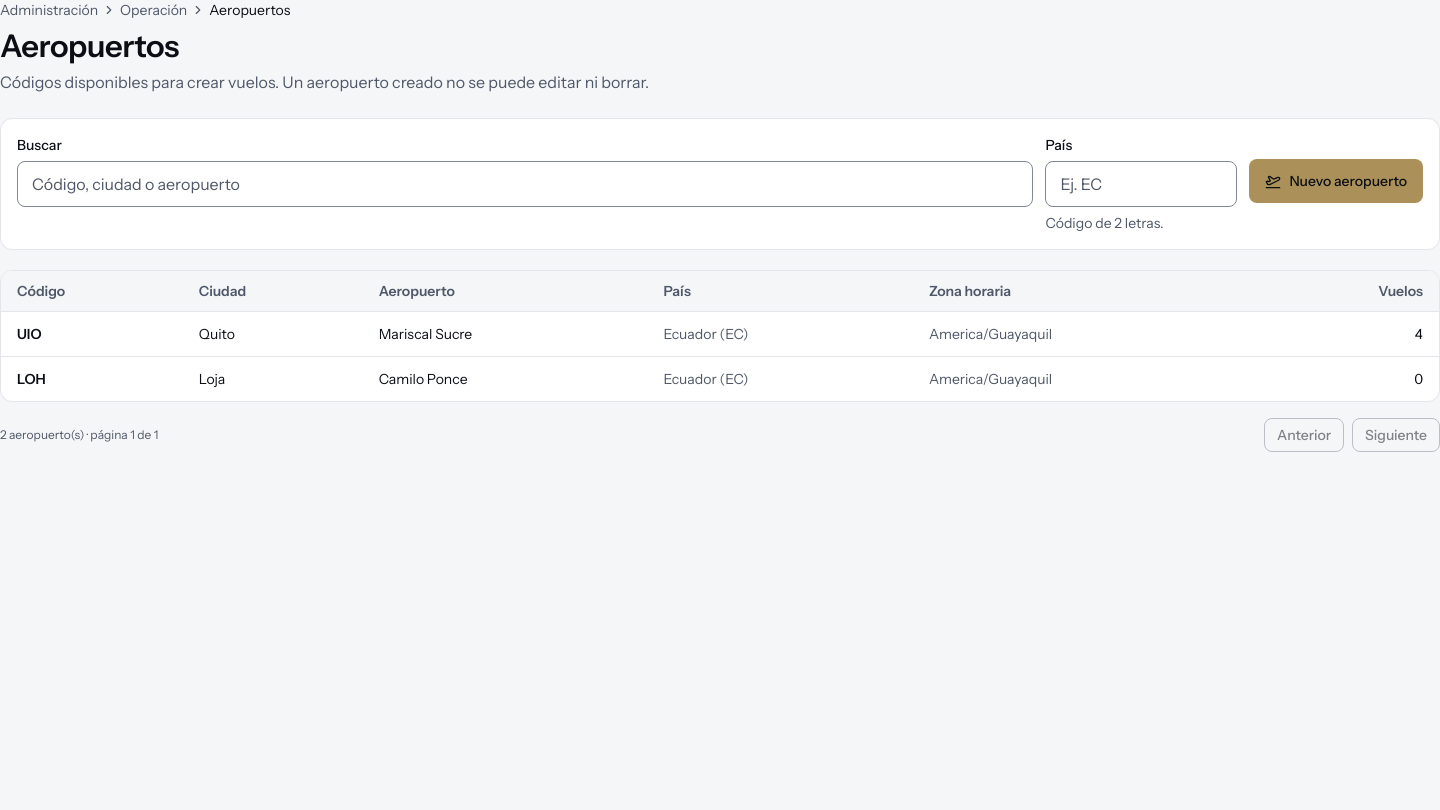
Test: AdminAirportsPage › asks for confirmation first and posts confirmar: true only after confirming, then invalidates the catalogue
The image size is (1440, 810).
Check: the text "Loja" is shown, box [183, 356, 363, 401]
Click the button "Nuevo aeropuerto" at (1336, 181), box [1249, 159, 1423, 203]
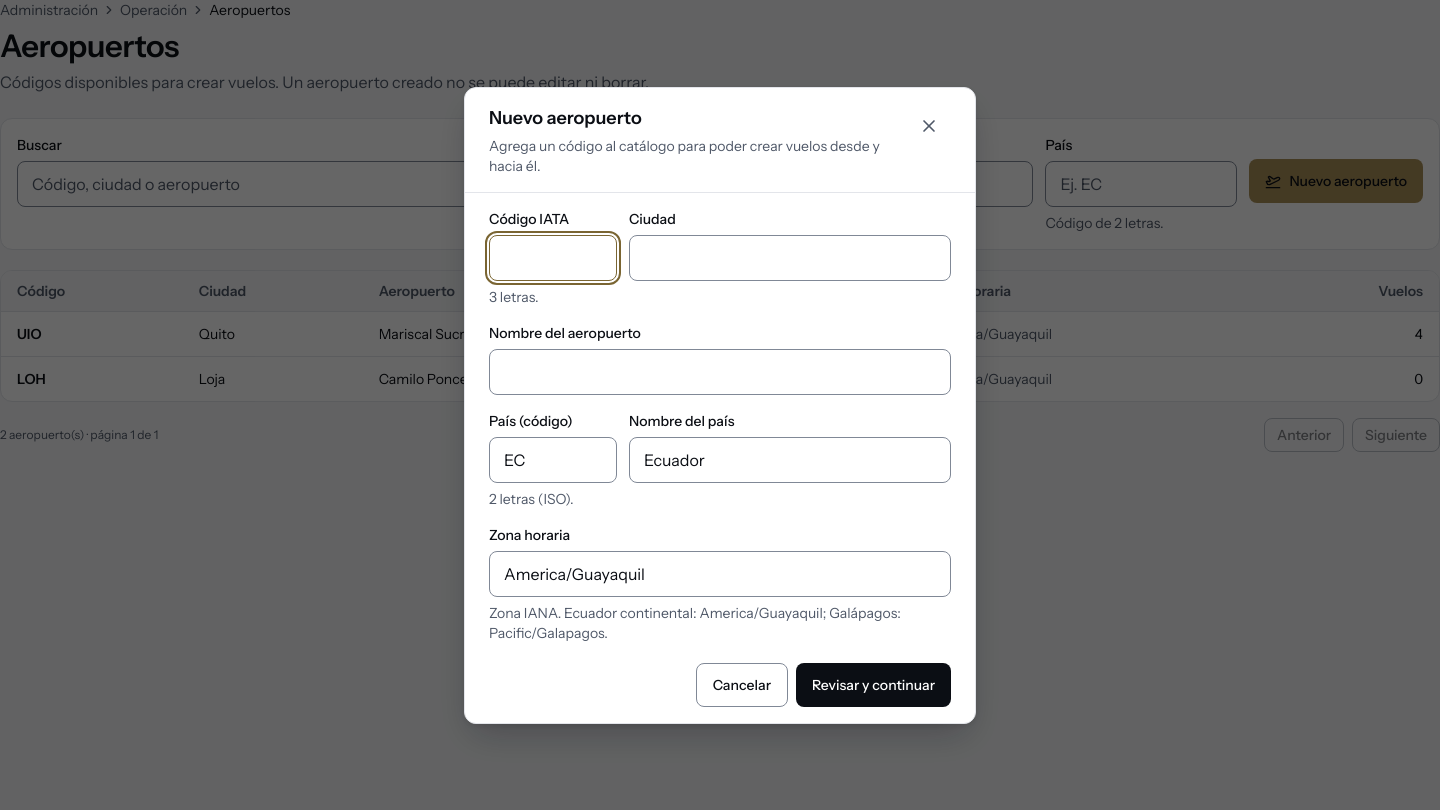
Type "tul" into the field labelled "Código IATA" at (553, 258), box [489, 234, 617, 280]
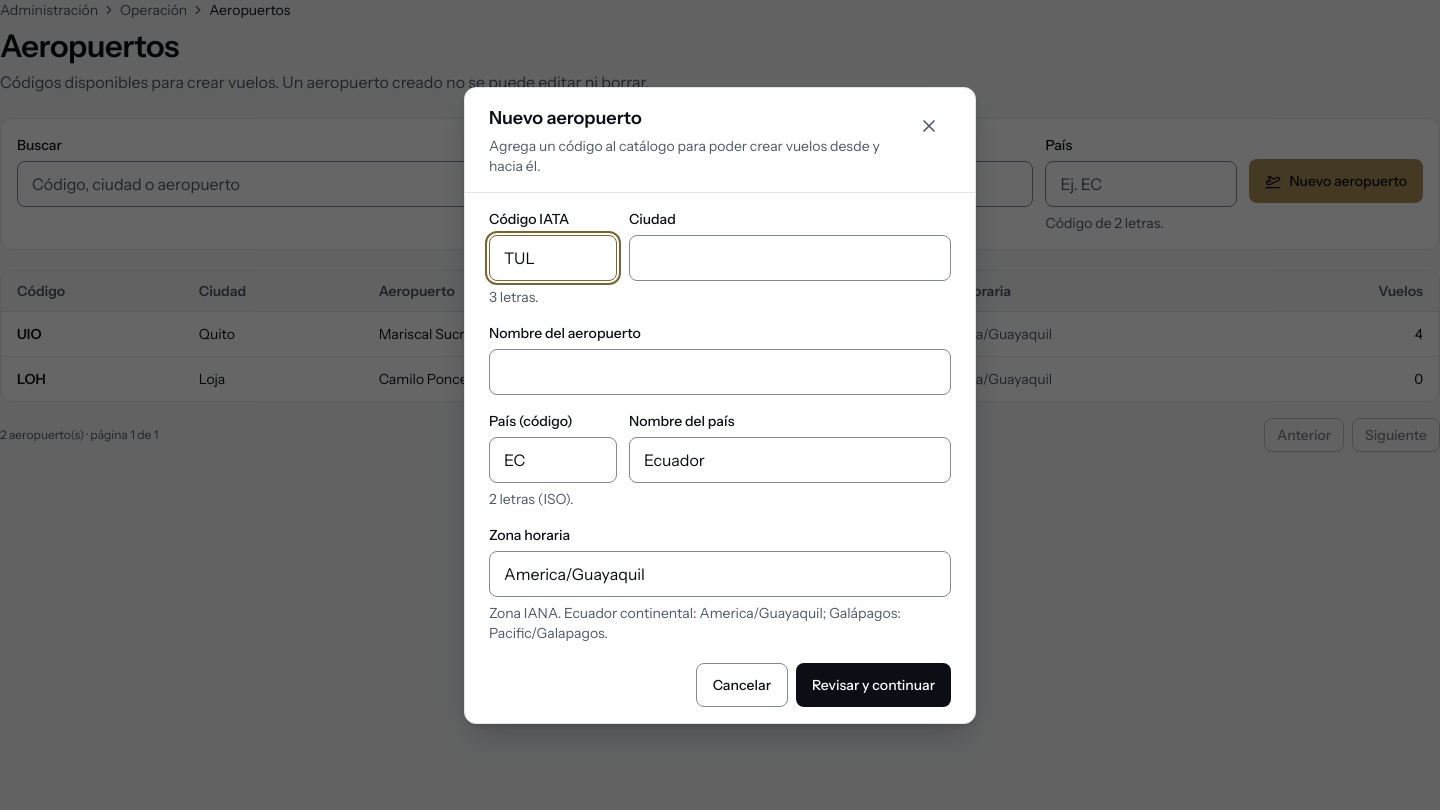
Type "Tulcán" into the field labelled "Ciudad" at (790, 258), box [629, 234, 951, 280]
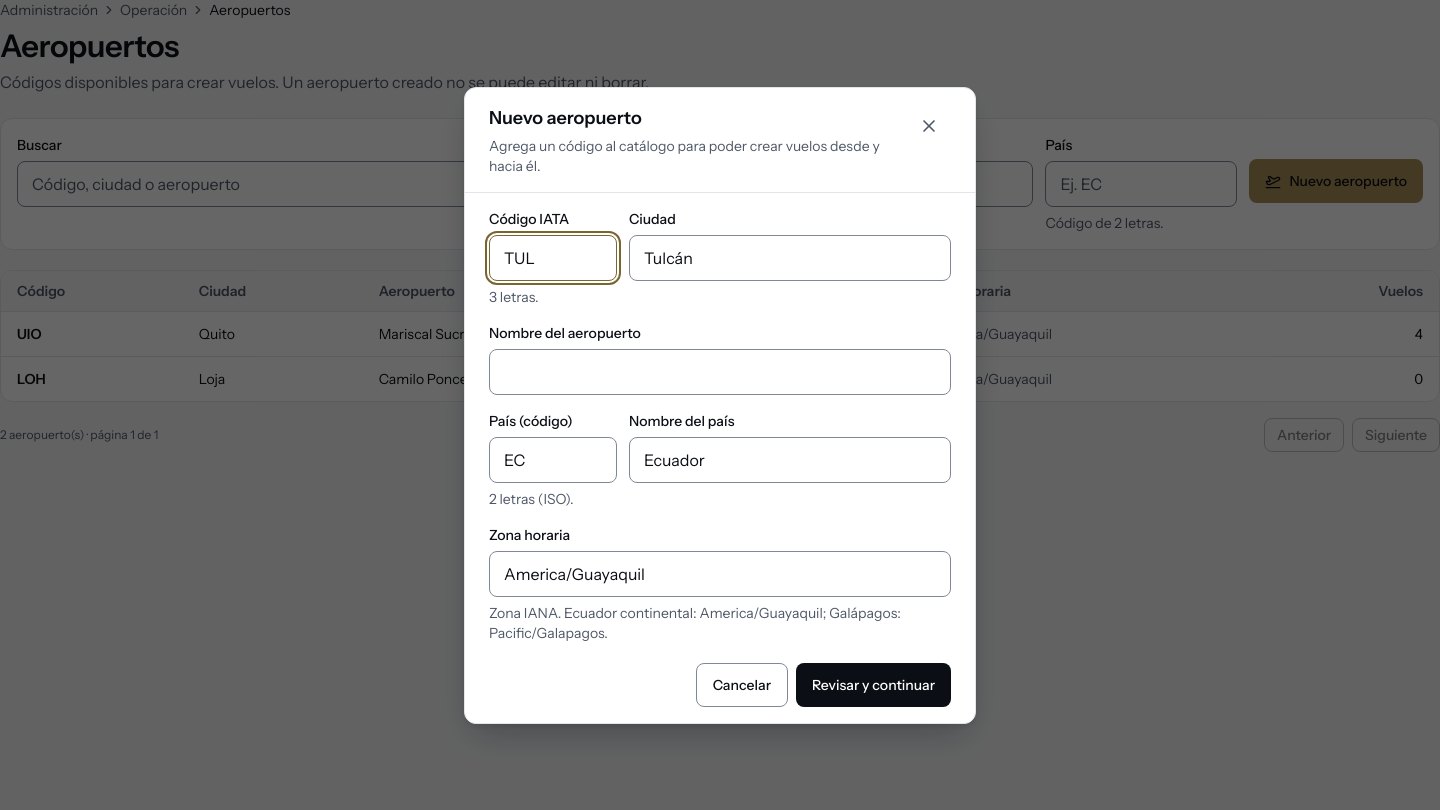
Type "Teniente Coronel Luis a Mantilla" into the field labelled "Nombre del aeropuerto" at (720, 372), box [489, 348, 951, 394]
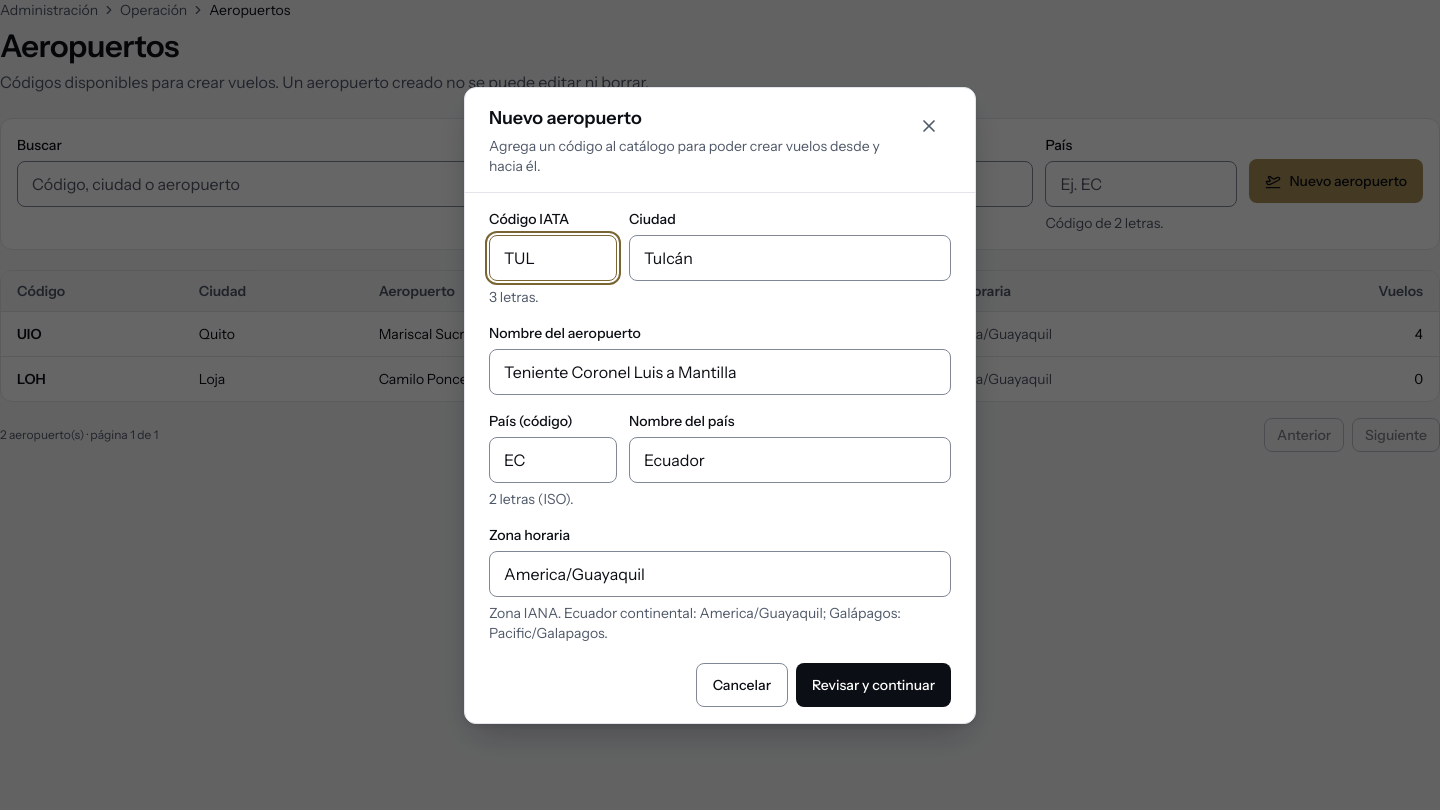
Click the button "Revisar y continuar" at (874, 684), box [796, 662, 951, 706]
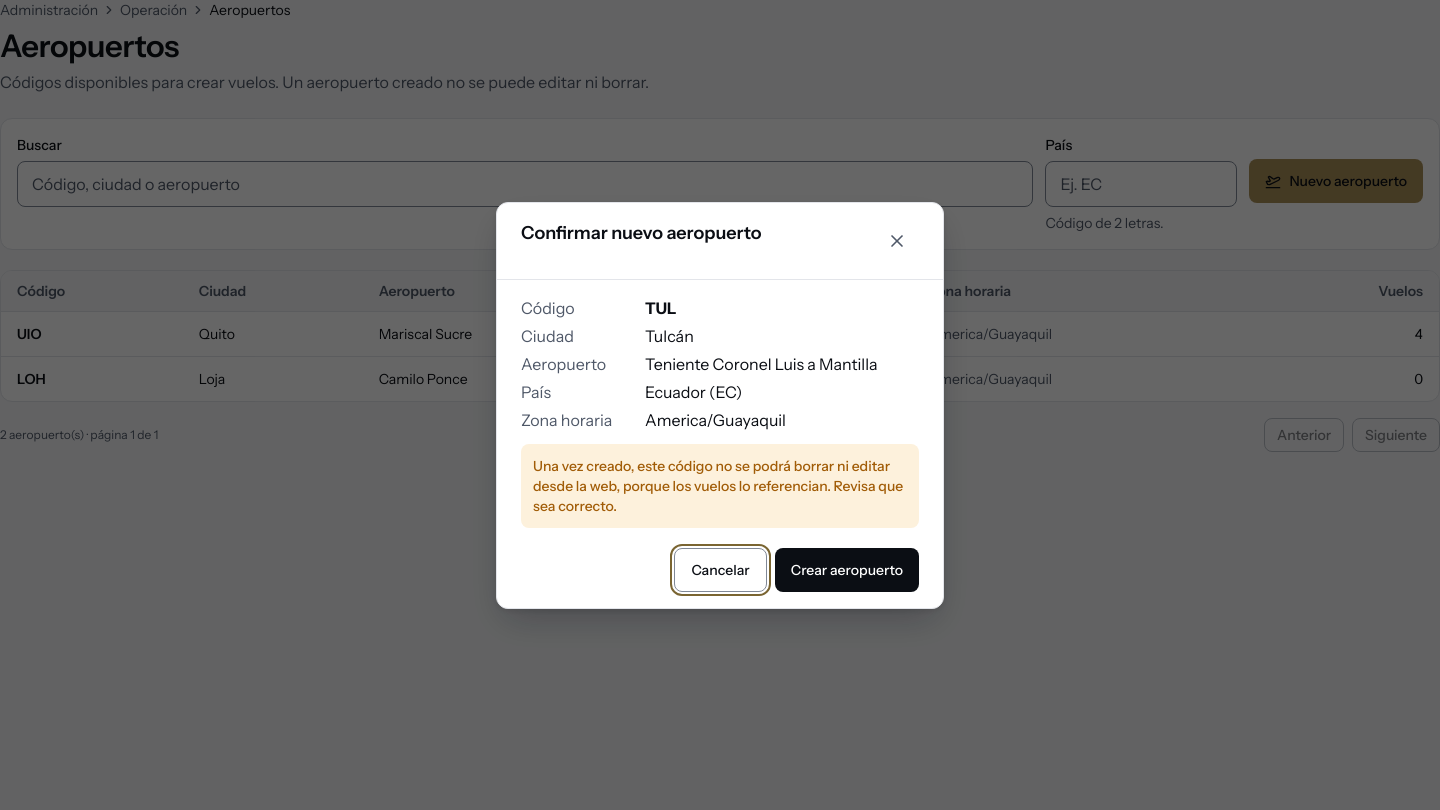
Check: the text "TUL" is shown, box [645, 298, 676, 318]
Check: the text "no se podrá borrar ni editar" is shown, box [533, 456, 903, 514]
Click the button "Crear aeropuerto" at (847, 570), box [775, 548, 919, 592]
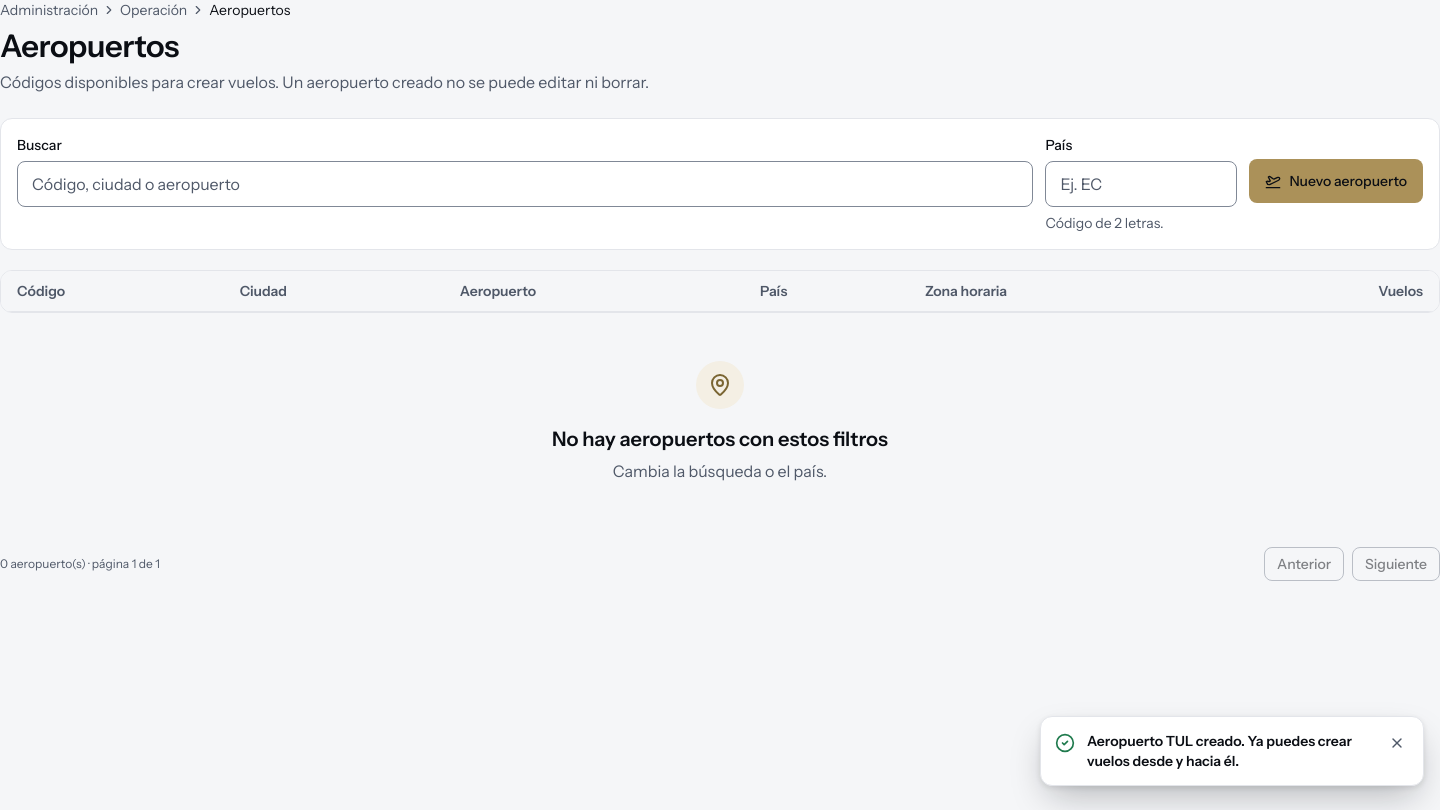
Check: the text "Aeropuerto TUL creado" is shown, box [1087, 732, 1352, 770]
